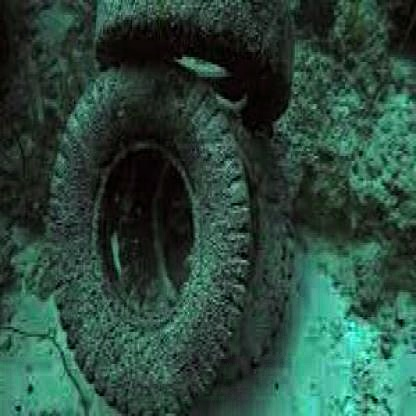tire: (39, 59, 253, 416), (220, 111, 298, 416), (72, 2, 309, 86)
